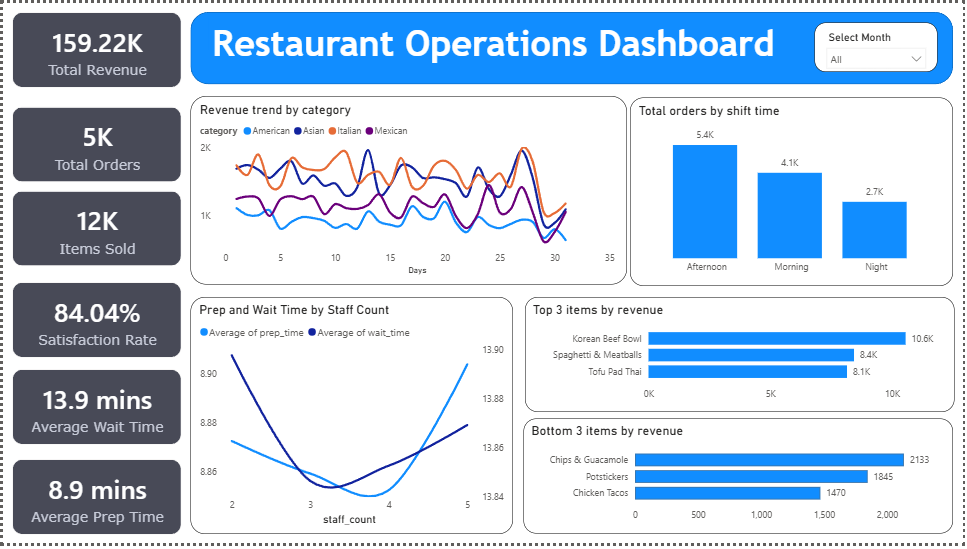

Layout of this report page (visuals, bound fields, positions):
{"tool":"powerbi","page":{"name":"Page 1","canvas":[1280,720],"ordinal":0},"visuals":[{"type":"lineChart","fields":{"Category":["restaurant_operations_analytics order_details.order_date.Variation.Date Hierarchy.Day"],"Y":["_measures.Total_revenue"],"Series":["restaurant_operations_analytics menu_items.category"]},"box":[249.5,124.7,582.1,251.3],"z":0},{"type":"barChart","title":"Top 3 items by revenue","fields":{"Category":["restaurant_operations_analytics menu_items.item_name"],"Y":["_measures.Total_revenue"]},"box":[695.4,391.2,572.6,153.1],"z":1000},{"type":"barChart","title":"Bottom 3 items by revenue","fields":{"Category":["restaurant_operations_analytics menu_items.item_name"],"Y":["_measures.Total_revenue"]},"box":[693.5,553.7,572.6,153.1],"z":2000},{"type":"cardVisual","fields":{"Data":["_measures.Total_revenue"]},"box":[0,0,250,125],"z":3000},{"type":"cardVisual","fields":{"Data":["_measures.Total_orders"]},"box":[0,125,250,125],"z":4000},{"type":"cardVisual","fields":{"Data":["_measures.Average Prep Time"]},"box":[0,595,250,125],"z":5000},{"type":"cardVisual","fields":{"Data":["_measures.Average Wait Time"]},"box":[0,475,250,125],"z":6000},{"type":"cardVisual","fields":{"Data":["_measures.satisfaction_rate"]},"box":[0,360,250,125],"z":7000},{"type":"cardVisual","fields":{"Data":["_measures.Total_items_sold"]},"box":[0,237.5,250,125],"z":8000},{"type":"lineChart","title":"Staff_count vs Time","fields":{"Y":["Avg(restaurant_operations_analytics operational_metrices.prep_time)"],"Y2":["Avg(restaurant_operations_analytics operational_metrices.wait_time)"],"Category":["restaurant_operations_analytics staffing_metrices.staff_count"]},"box":[250,391.7,430,315.8],"z":9000},{"type":"clusteredColumnChart","title":"total orders by shift time","fields":{"Y":["CountNonNull(restaurant_operations_analytics operational_metrices.order_id)"],"Category":["restaurant_operations_analytics staffing_metrices.shift_time"]},"box":[835.3,126.6,430.9,251.3],"z":10000},{"type":"shape","box":[249.5,11.3,1016.7,96.4],"z":10001},{"type":"textbox","box":[274,20.8,971.3,86.9],"z":10002}]}

Visuals, with their boxes in screenshot pixels (x1, y1, x2, y2), scaled from the page's 1280x720 canvas onto the 967x549 screenshot:
lineChart - restaurant_operations_analytics order_details.order_date.Variation.Date Hierarchy.Day x _measures.Total_revenue: BBox(188, 95, 628, 287)
"Top 3 items by revenue" barChart: BBox(525, 298, 958, 415)
"Bottom 3 items by revenue" barChart: BBox(524, 422, 956, 539)
cardVisual - _measures.Total_revenue: BBox(0, 0, 189, 95)
cardVisual - _measures.Total_orders: BBox(0, 95, 189, 191)
cardVisual - _measures.Average Prep Time: BBox(0, 454, 189, 548)
cardVisual - _measures.Average Wait Time: BBox(0, 362, 189, 458)
cardVisual - _measures.satisfaction_rate: BBox(0, 274, 189, 370)
cardVisual - _measures.Total_items_sold: BBox(0, 181, 189, 276)
"Staff_count vs Time" lineChart: BBox(189, 299, 514, 539)
"total orders by shift time" clusteredColumnChart: BBox(631, 97, 957, 288)
shape: BBox(188, 9, 957, 82)
textbox: BBox(207, 16, 941, 82)
